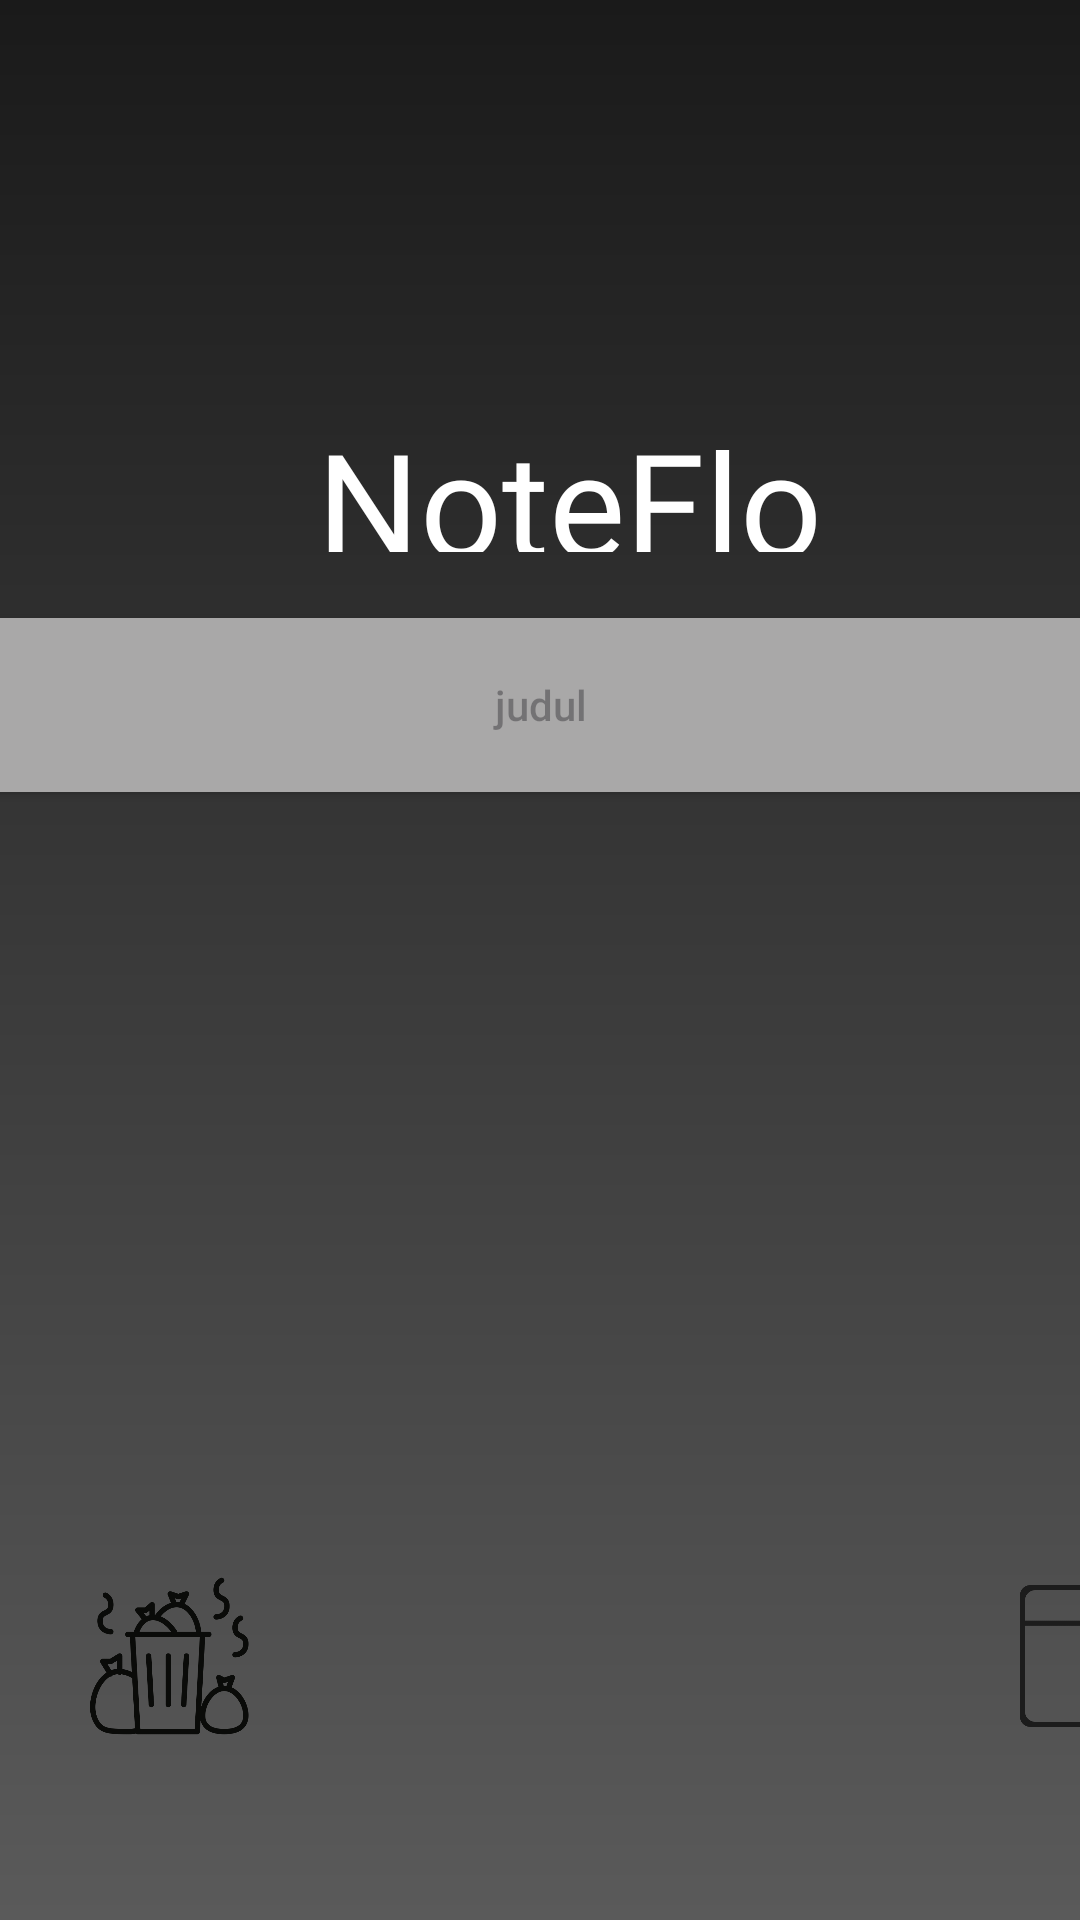

Where to tap for icons on this 1080px×1920px app screen, as (x=x, y=y):
trash: (x=169, y=1656)
